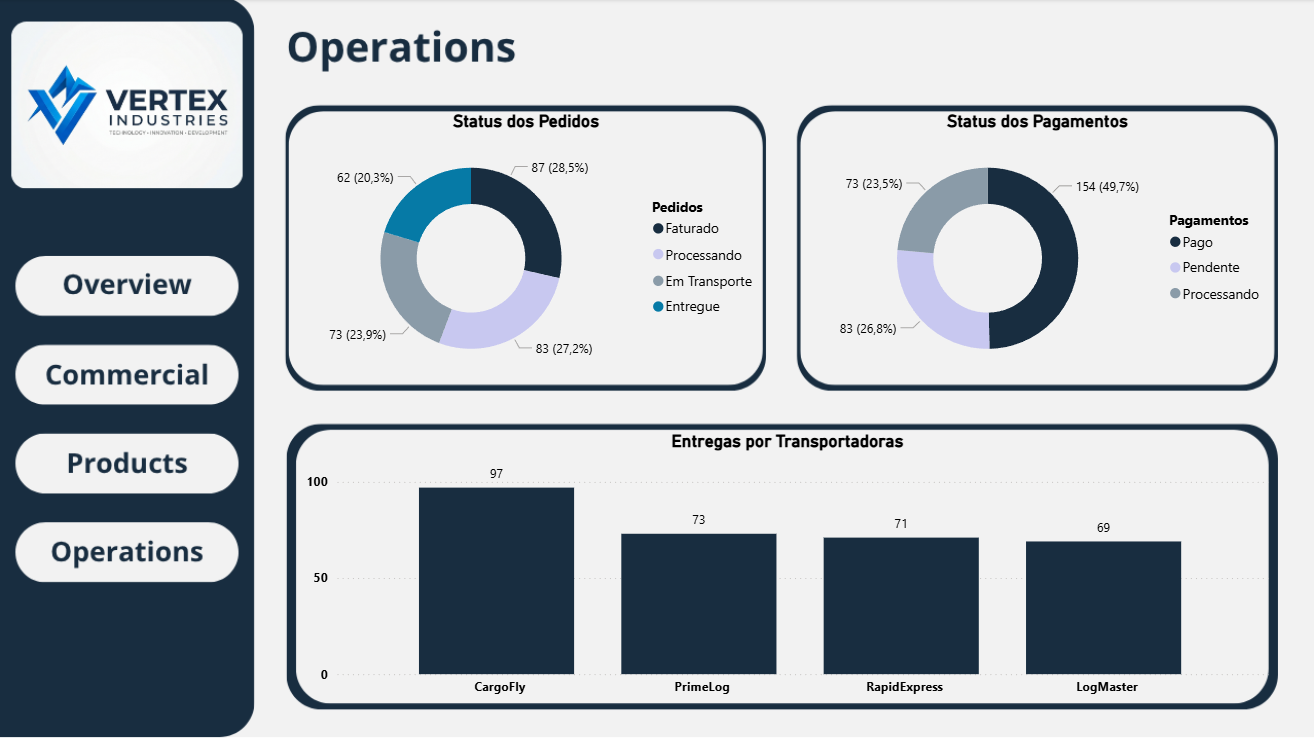

The dashboard page shown, as its layout file describes it:
{"tool":"powerbi","page":{"name":"Operations","canvas":[1280,720],"ordinal":3},"visuals":[{"type":"donutChart","title":"Status dos Pedidos","fields":{"Category":["vertex_industries vw_vendas_comercial.status_pedido"],"Y":["vertex_industries vw_dashboard_executivo.Total Pedidos"]},"box":[277.2,108.9,468.8,267.5],"z":0},{"type":"donutChart","title":"Status dos Pagamentos","fields":{"Category":["vertex_industries vw_financeiro.status_pagamento"],"Y":["CountNonNull(vertex_industries vw_financeiro.status_pagamento)"]},"box":[779.1,108.9,460.1,267.5],"z":1},{"type":"columnChart","title":"Entregas por Transportadoras","fields":{"Category":["vertex_industries vw_logistica.transportadora"],"Y":["Count(vertex_industries vw_logistica.id_entrega)"]},"box":[292.8,420.2,946.4,266.5],"z":2},{"type":"actionButton","box":[22.4,250.9,201.3,56.4],"z":3},{"type":"actionButton","box":[22.4,336.5,201.3,58.4],"z":4},{"type":"actionButton","box":[22.4,423.1,201.3,56.4],"z":5}]}

Visuals, with their boxes in screenshot pixels (x1, y1, x2, y2), scaled from the page's 1280x720 canvas onto the 1314x738 screenshot:
"Status dos Pedidos" donutChart: 285,112,766,386
"Status dos Pagamentos" donutChart: 800,112,1272,386
"Entregas por Transportadoras" columnChart: 301,431,1272,704
actionButton: 23,257,230,315
actionButton: 23,345,230,405
actionButton: 23,434,230,491
